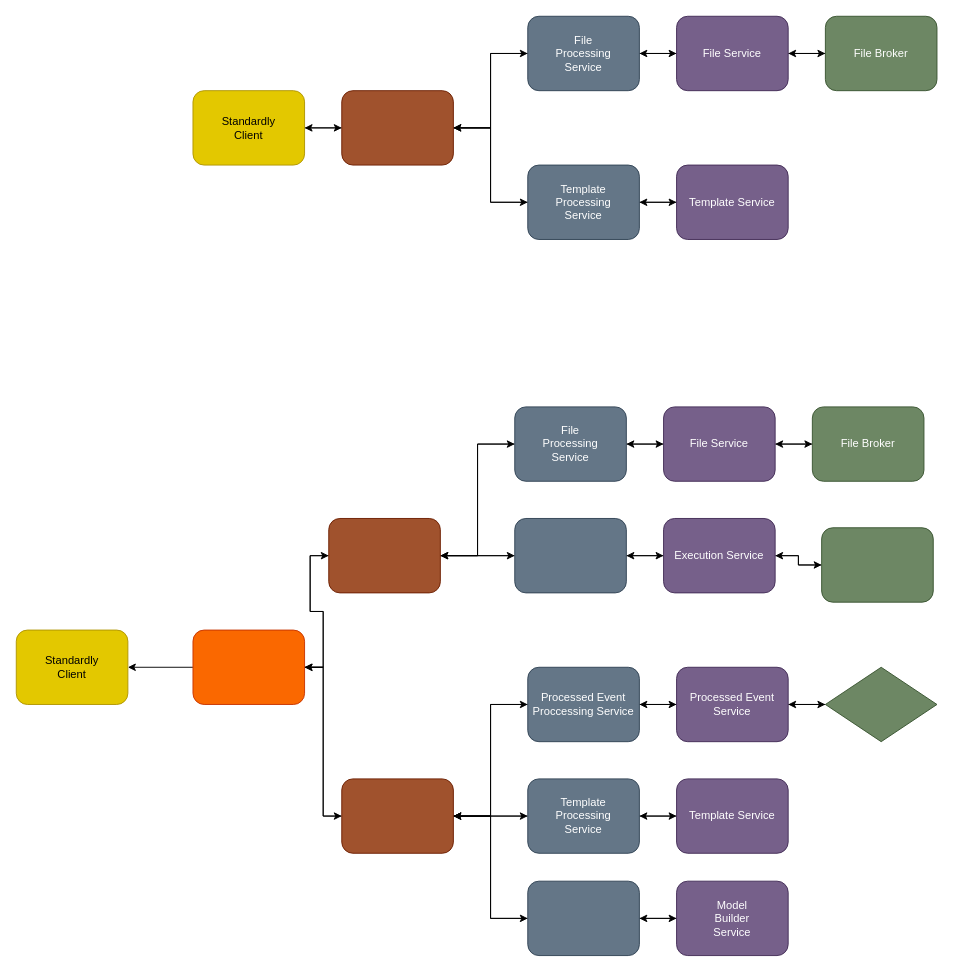
This 953x972 diagram has some shape labels left out. The shapes that lost their labels are listed below. From the top down, each one's centre as x and y in pixels, then its label:
At point (397, 127): "Template Retrieval Orchestration Service".
At point (384, 555): "Template Generation Orchestration Service".
At point (570, 555): "Execution Processing Service".
At point (877, 564): "Execution Broker".
At point (248, 666): "Template Management Service".
At point (880, 704): "Memory Queue".
At point (397, 815): "Template Orchestration Service".
At point (583, 918): "Model Builder Processing Service".
